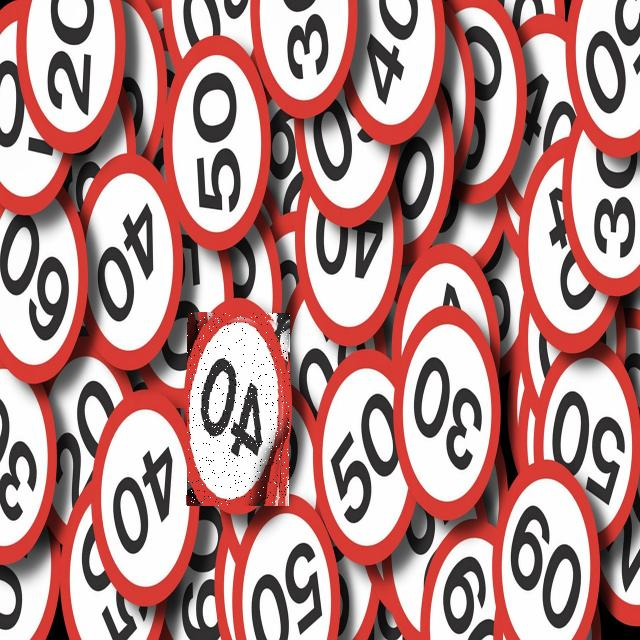speed limit 40: (187, 313, 290, 506)
